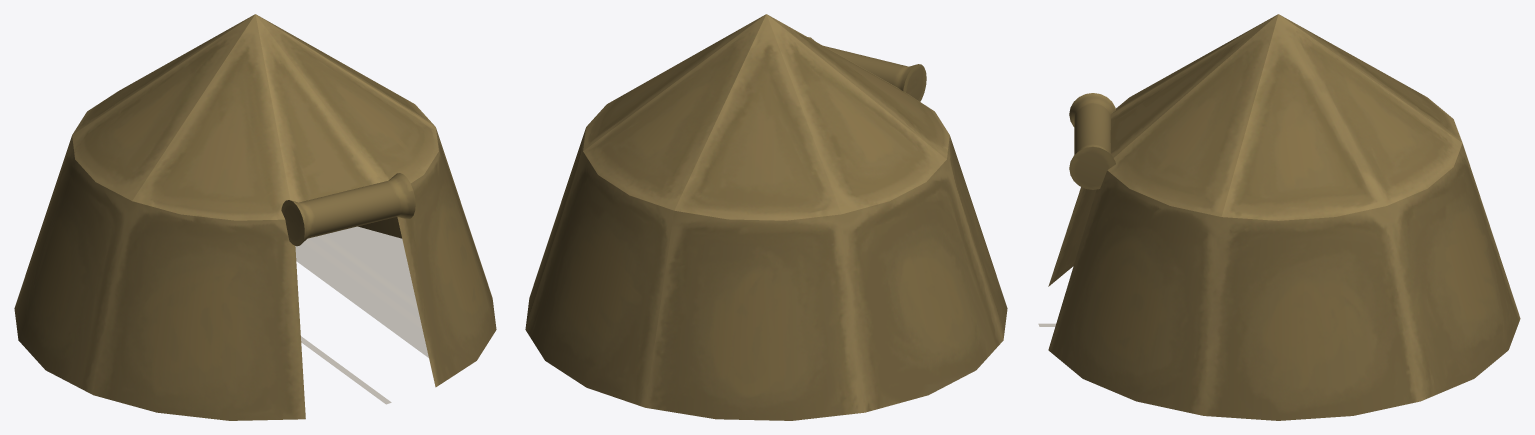
The model's file is tent_1.fbx.
The picture shows the model from 3 angles, left to right: view 1: azimuth 30°, elevation 25°; view 2: azimuth 150°, elevation 25°; view 3: azimuth 270°, elevation 25°; orthographic projection.
Visible parts, largest first — view 1: pCylinder3; view 2: pCylinder3; view 3: pCylinder3.
Part boxes in pixels (<box>): pCylinder3: <box>14,14,496,420</box>; pCylinder3: <box>525,14,1007,420</box>; pCylinder3: <box>1038,14,1520,420</box>.
Bounding box in the file's own units: 8.72 × 6.05 × 8.72.
